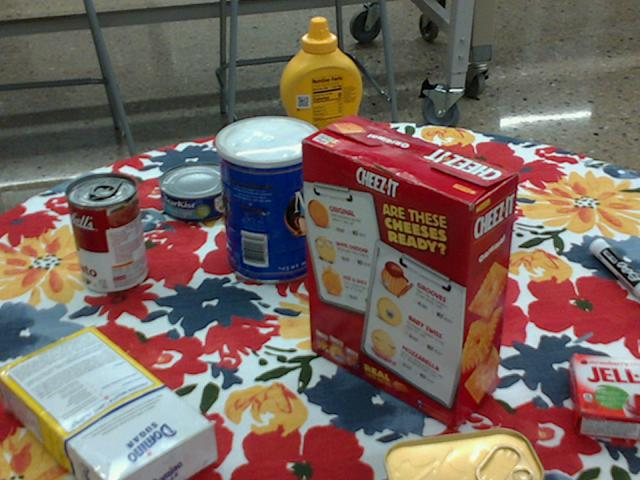cracker_box: (301, 117, 516, 433)
gelatin_box: (565, 357, 639, 442)
large_marker: (588, 242, 639, 303)
master_chef_can: (217, 117, 322, 285)
mug: (413, 149, 504, 241)
mustard_bottle: (281, 22, 364, 187)
potted_meat_can: (378, 427, 539, 479)
sugar_box: (0, 326, 213, 479)
tomato_soup_can: (67, 172, 146, 292)
tuna_fish_can: (160, 164, 236, 222)
